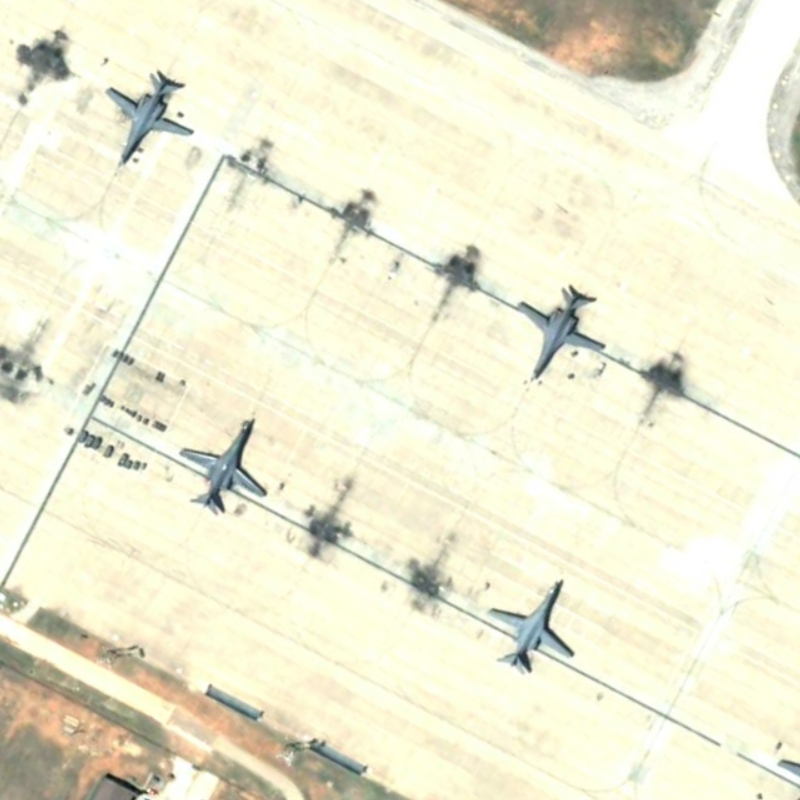A10: (484, 562, 583, 679), (176, 408, 276, 523), (99, 61, 203, 170), (513, 278, 615, 387)
